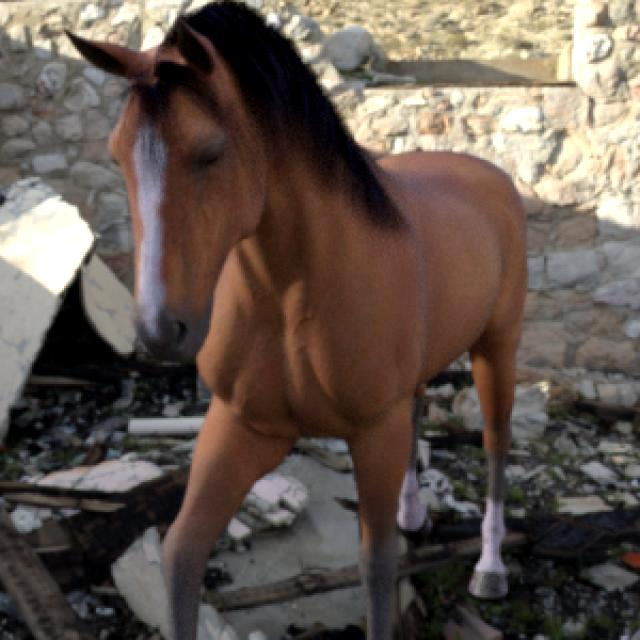horse: (71, 5, 526, 639)
